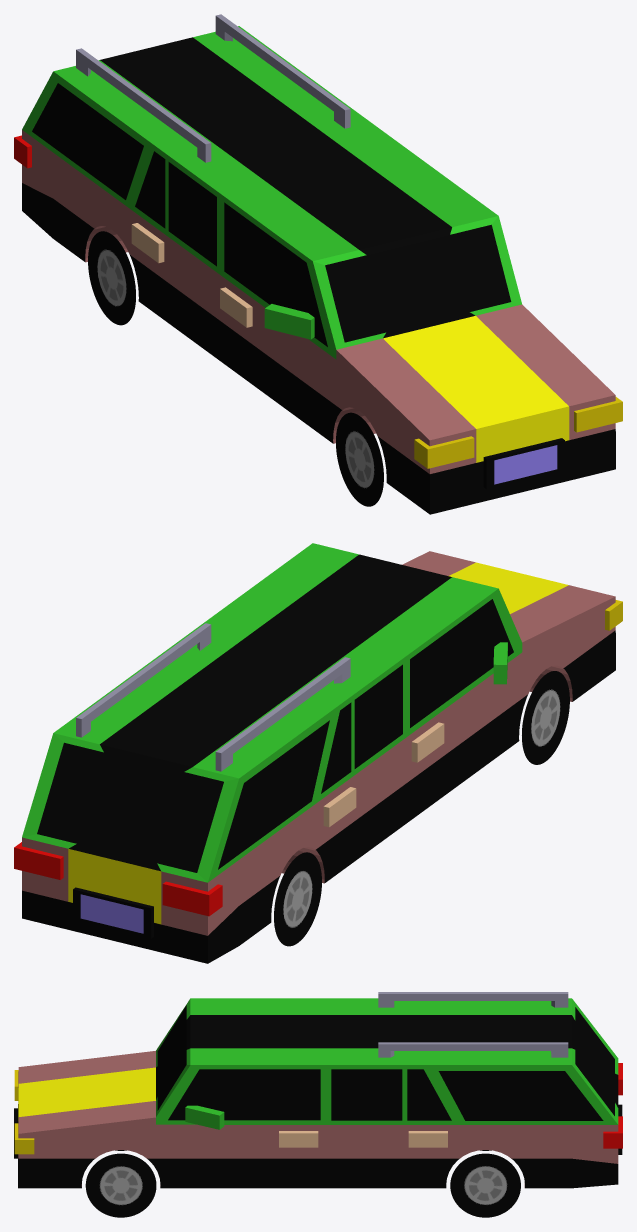
The model's file is Mobil_6_Peach_D.fbx.
The picture shows the model from 3 angles, top to bottom: view 1: azimuth 30°, elevation 25°; view 2: azimuth 150°, elevation 25°; view 3: azimuth 270°, elevation 25°; orthographic projection. The views are drawn at different scales.
Parts seen in each view (by area): view 1: Mobil2.001; view 2: Mobil2.001; view 3: Mobil2.001.
Boxes of the visible parts, <box> form: Mobil2.001: <box>14,14,622,514</box>; Mobil2.001: <box>14,543,622,963</box>; Mobil2.001: <box>14,992,622,1217</box>.
Bounding box in the file's own units: 521 × 465 × 1543.
5 materials, 3 textured.
